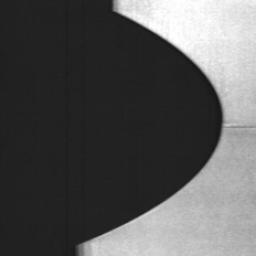Crescent gap: (83, 11, 223, 244)
